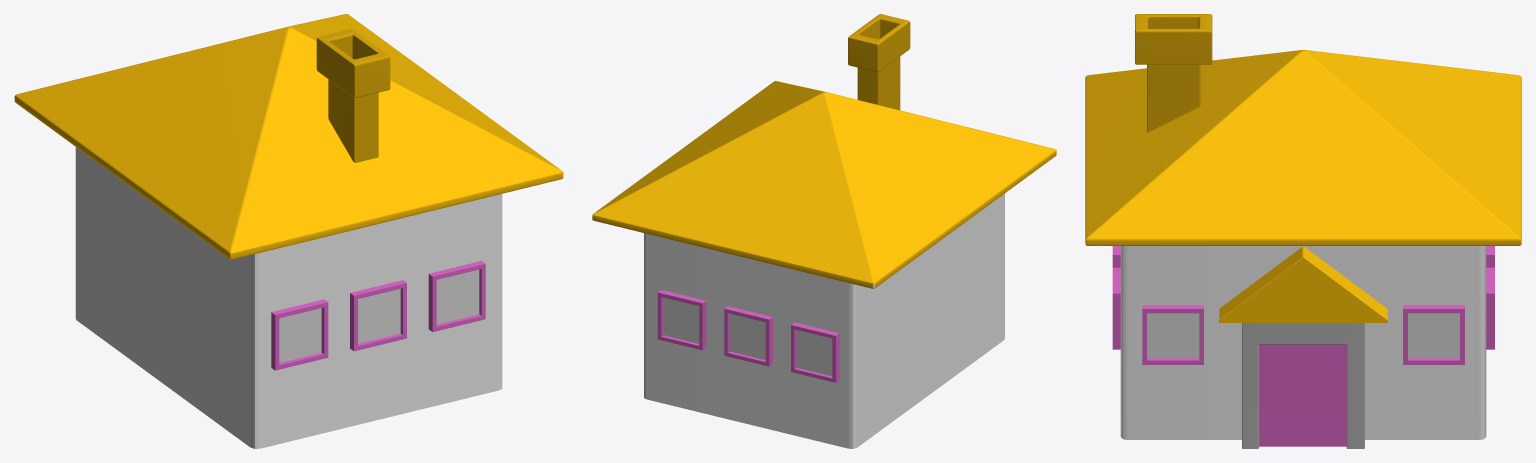
File: house3.fbx
3 views of the same model, side by side, from view 1: azimuth 30°, elevation 25°; view 2: azimuth 150°, elevation 25°; view 3: azimuth 270°, elevation 25° (orthographic). The views are drawn at different scales.
Parts seen in each view (by area): view 1: house_orange_mesh; view 2: house_orange_mesh; view 3: house_orange_mesh.
Part boxes in pixels (x1=…): house_orange_mesh: x1=14, y1=14, x2=563, y2=448; house_orange_mesh: x1=592, y1=14, x2=1056, y2=448; house_orange_mesh: x1=1085, y1=14, x2=1521, y2=448.
Bounding box in the file's own units: 4.83 × 4.89 × 5.42.
